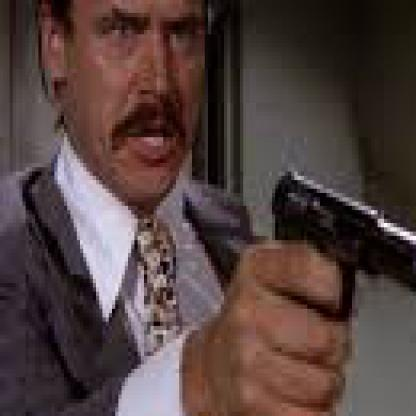gun: (0, 17, 35, 352)
